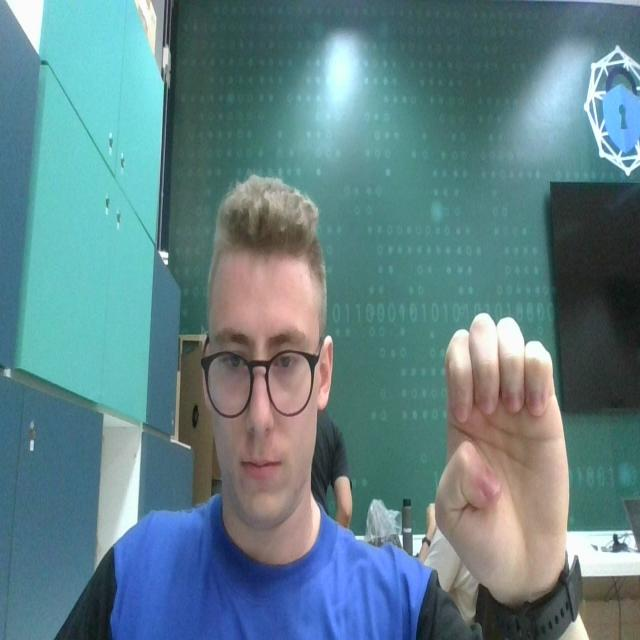E: (433, 309, 570, 587)
